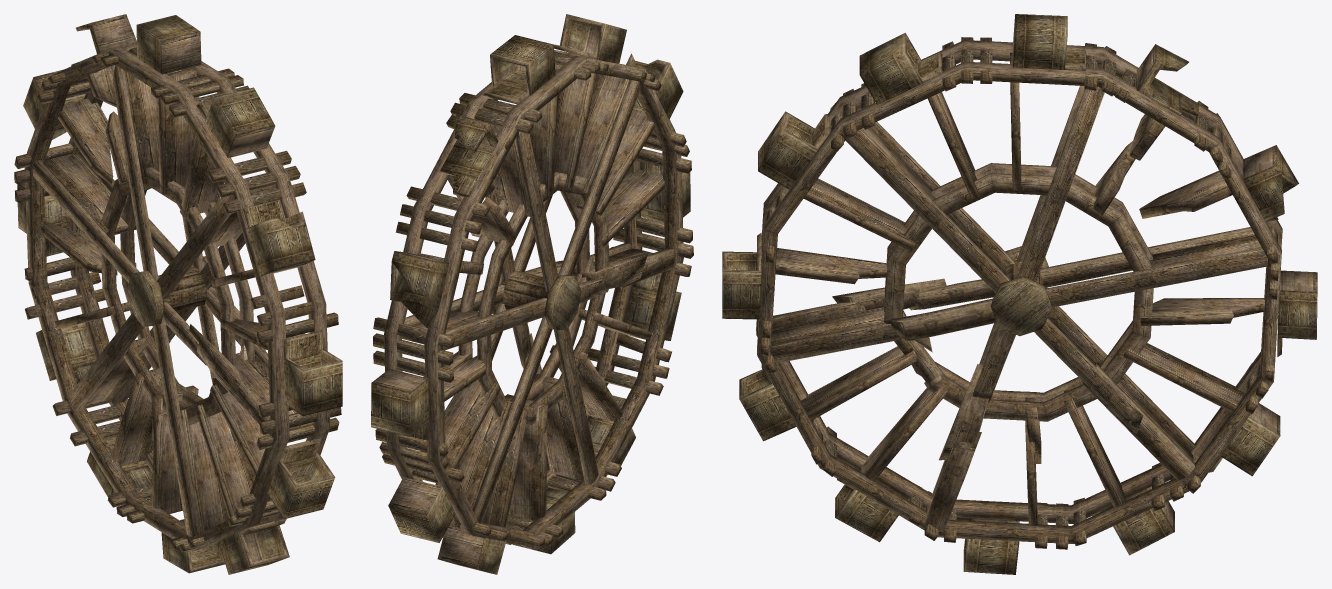
The model's file is S_Build_West094_Ani.FBX.
3 renders of one model, left to right at view 1: azimuth 30°, elevation 25°; view 2: azimuth 150°, elevation 25°; view 3: azimuth 270°, elevation 25°, orthographic. The views are drawn at different scales.
Parts seen in each view (by area): view 1: S_Build_West094_Ani; view 2: S_Build_West094_Ani; view 3: S_Build_West094_Ani.
Boxes of the visible parts, left/top/right/bottom form: S_Build_West094_Ani: left=14, top=14, right=342, bottom=574; S_Build_West094_Ani: left=371, top=14, right=693, bottom=574; S_Build_West094_Ani: left=722, top=14, right=1317, bottom=574.
Size of the model in its own units: 131 by 806 by 808.
